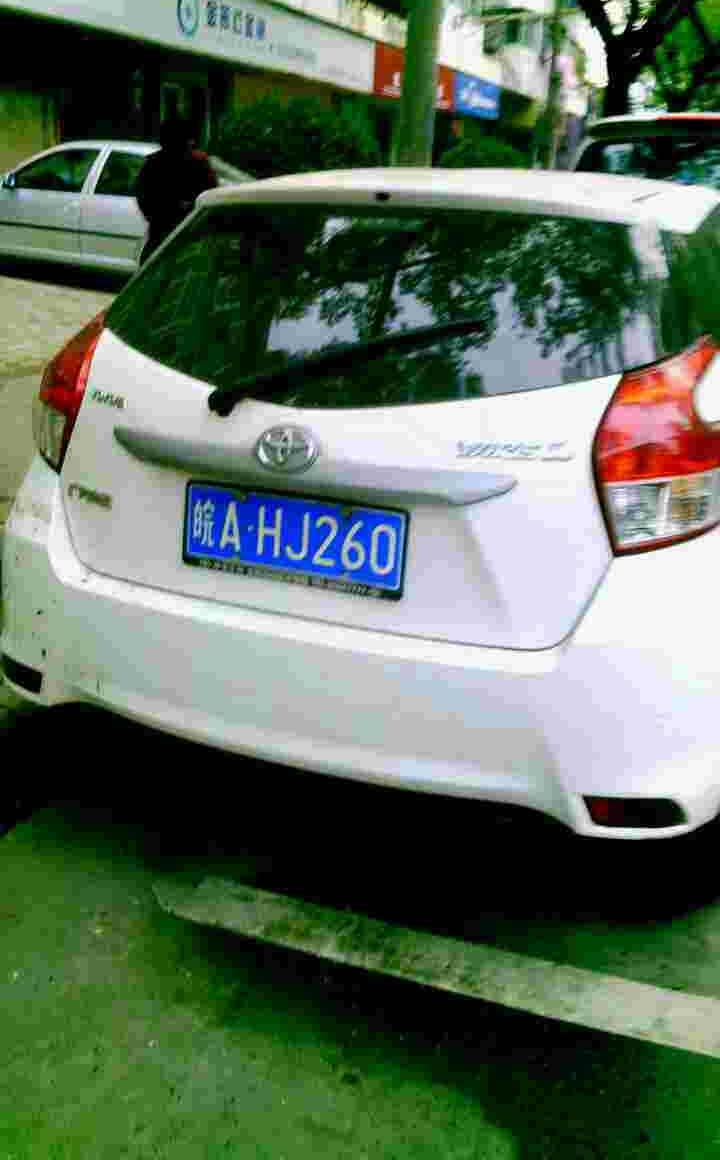license_plate: (171, 478, 409, 592)
